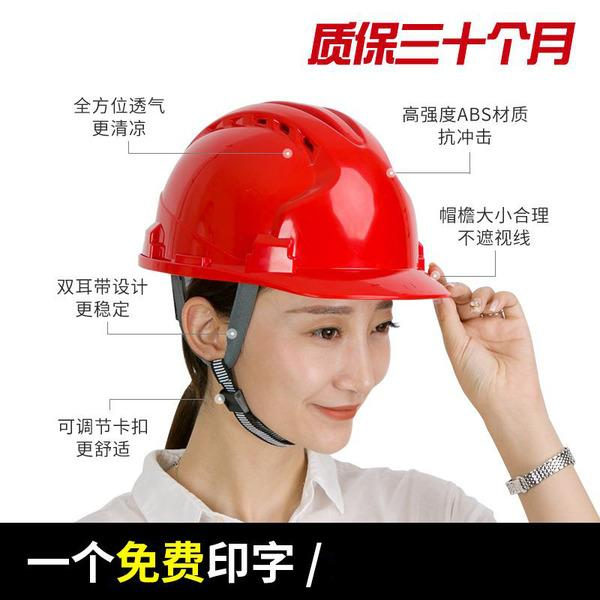helmet: (135, 101, 455, 314)
